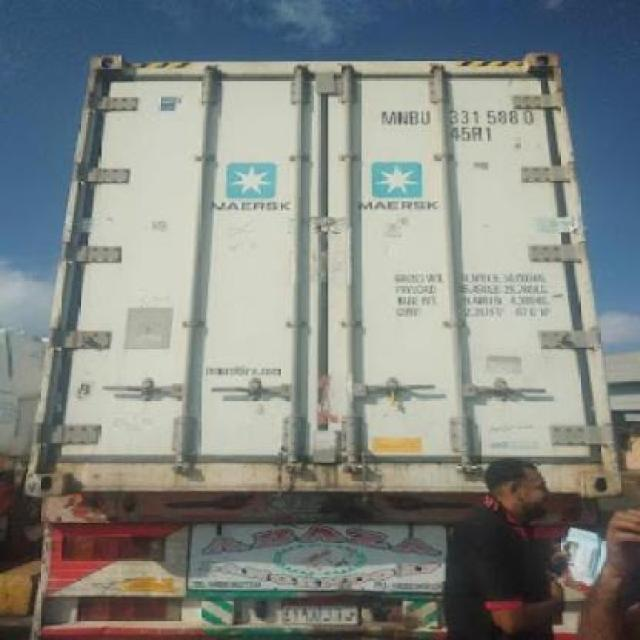ISO: (452, 124, 492, 144)
container_number: (387, 108, 537, 126)
